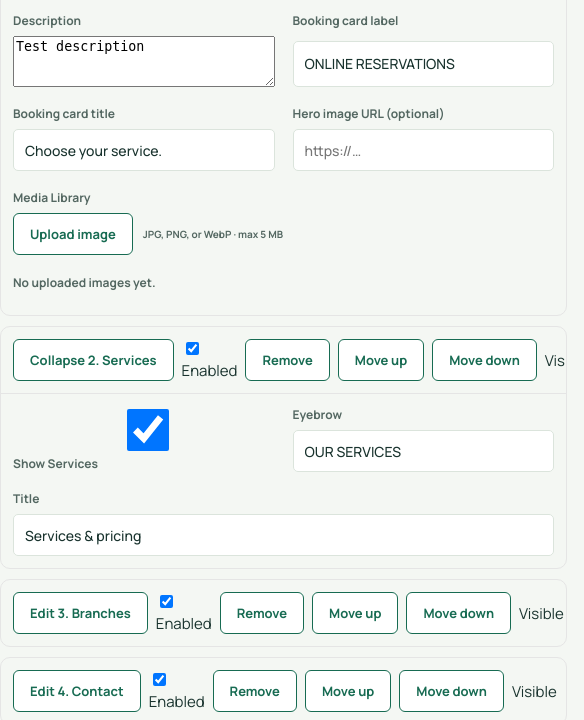
WebsiteManagementPage › collapses and expands section content without changing the draft
(page scrolled)
Expected: the text "No uploaded images yet." is shown, [13,274,156,291]
Expected: the field named "Services title" is shown, [13,514,554,556]
Click the button "Collapse 2. Services".
click(93, 360)  # box [13,339,174,381]
(page scrolled)
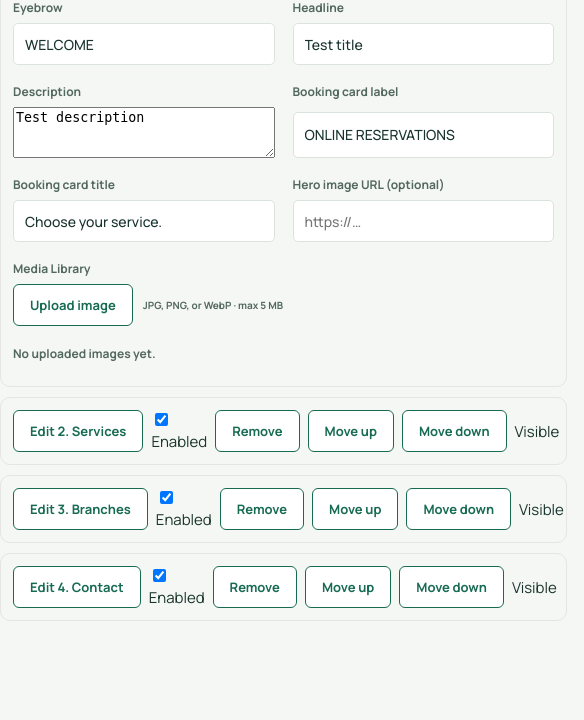
Expected: the field labelled "Services title" is gone
Click the button "Edit 2. Services".
click(78, 431)  # box [13,410,143,452]
(page scrolled)
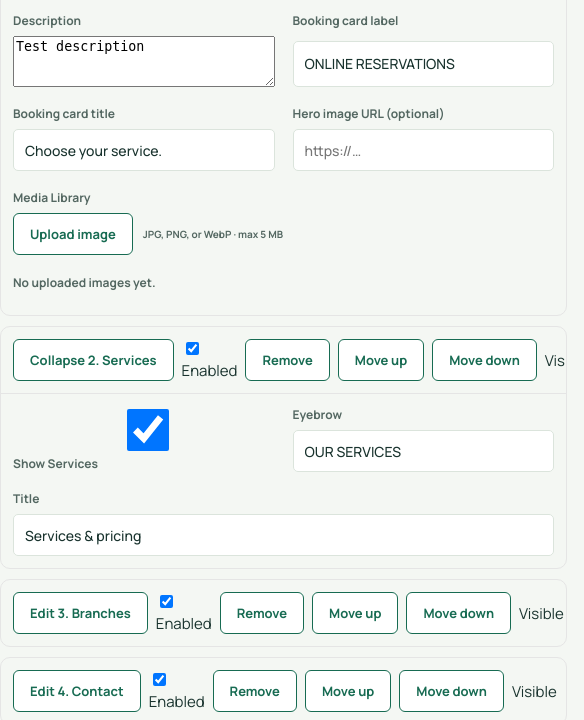
Expected: the field named "Services title" is shown, [13,514,554,556]
